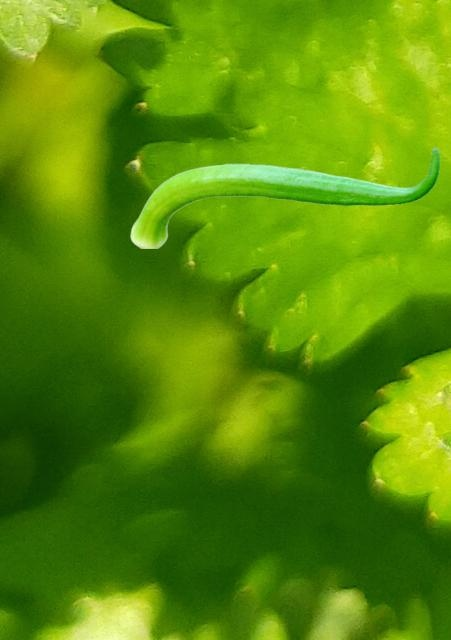okra: (130, 147, 439, 247)
